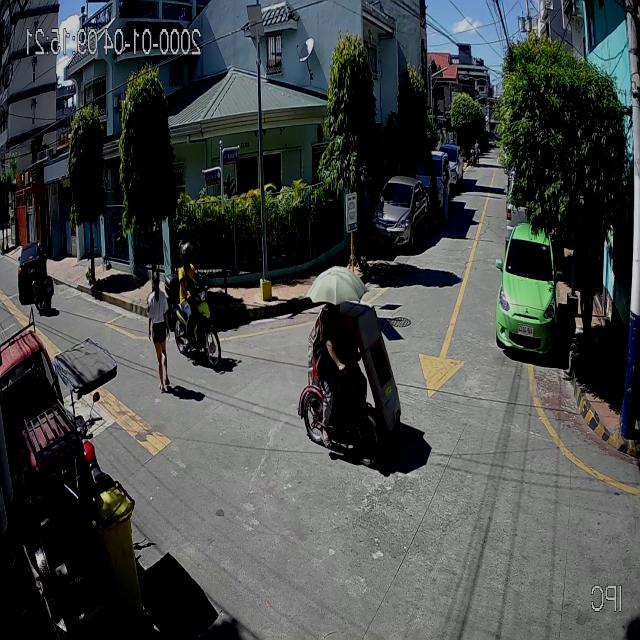standing: (439, 166, 452, 221), (427, 166, 438, 223), (471, 139, 480, 165)
walking: (146, 267, 170, 395)
